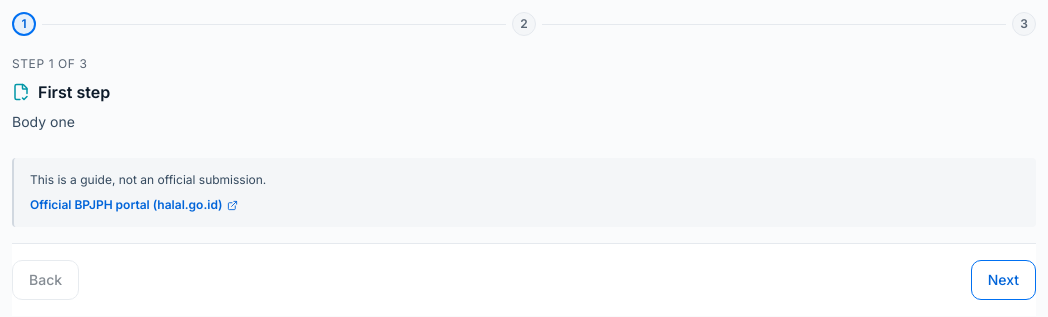
GuidedLesson — read-only stepped guidance › stepper dots let a reader jump to any step (read-only, nothing gated)
// Dot for the third step is reachable directly (no validation gate).
What coordinates should you click on to do the following:
click the button named "Third step"
I would click on:
 (1024, 24)
Its box is [1012,12,1036,36].
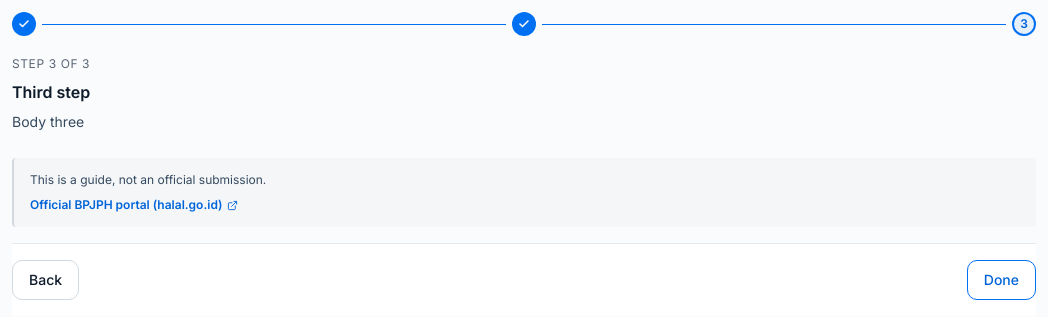
Result: the text "Body three" is shown at [12,113,84,130]
Result: the button "Done" is shown at [967,260,1036,300]
